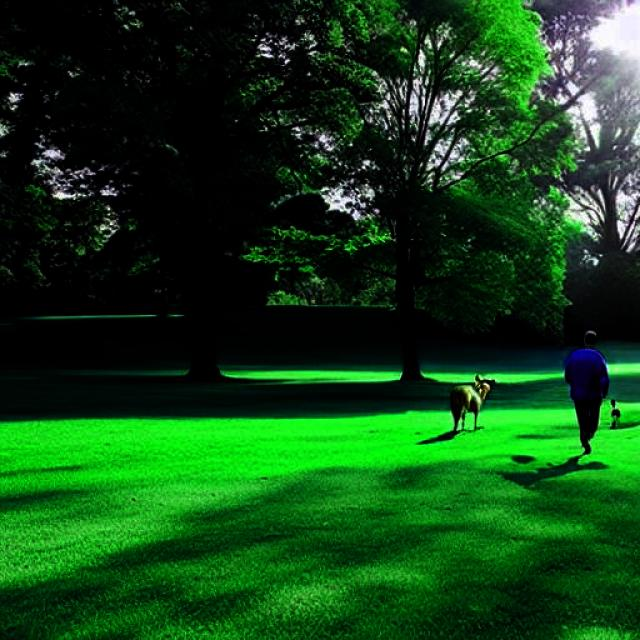Unleashed_Dog: (447, 375, 597, 436)
